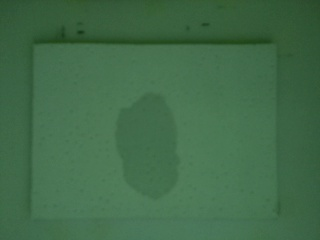Water_detected: (128, 104, 180, 185)
